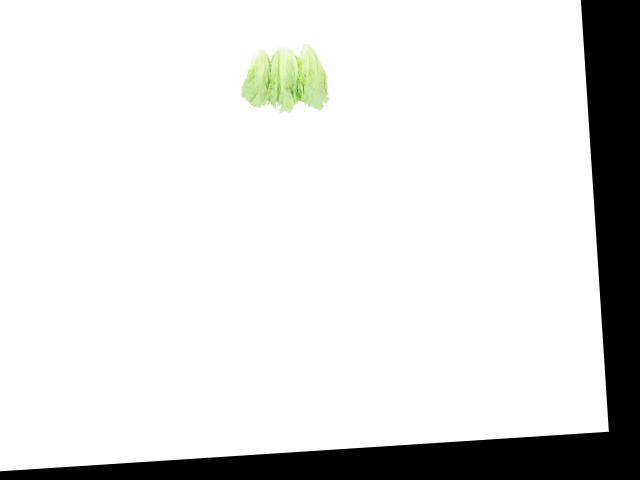lettuce: (237, 33, 277, 110)
